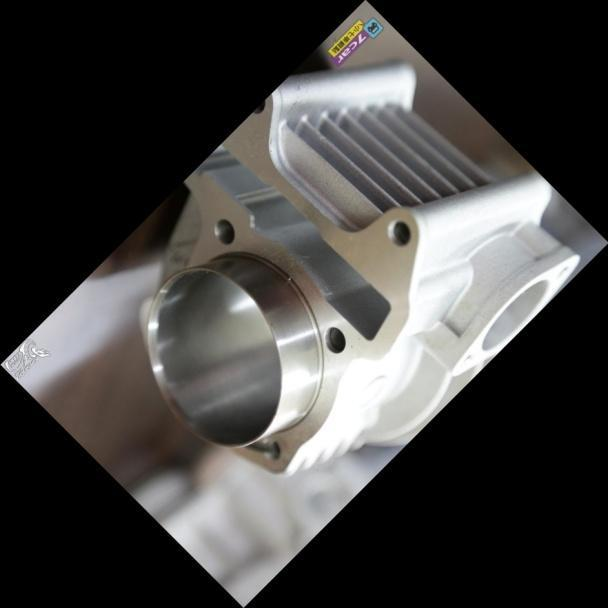hole: (378, 212, 418, 252), (314, 320, 353, 359), (203, 211, 242, 250)
